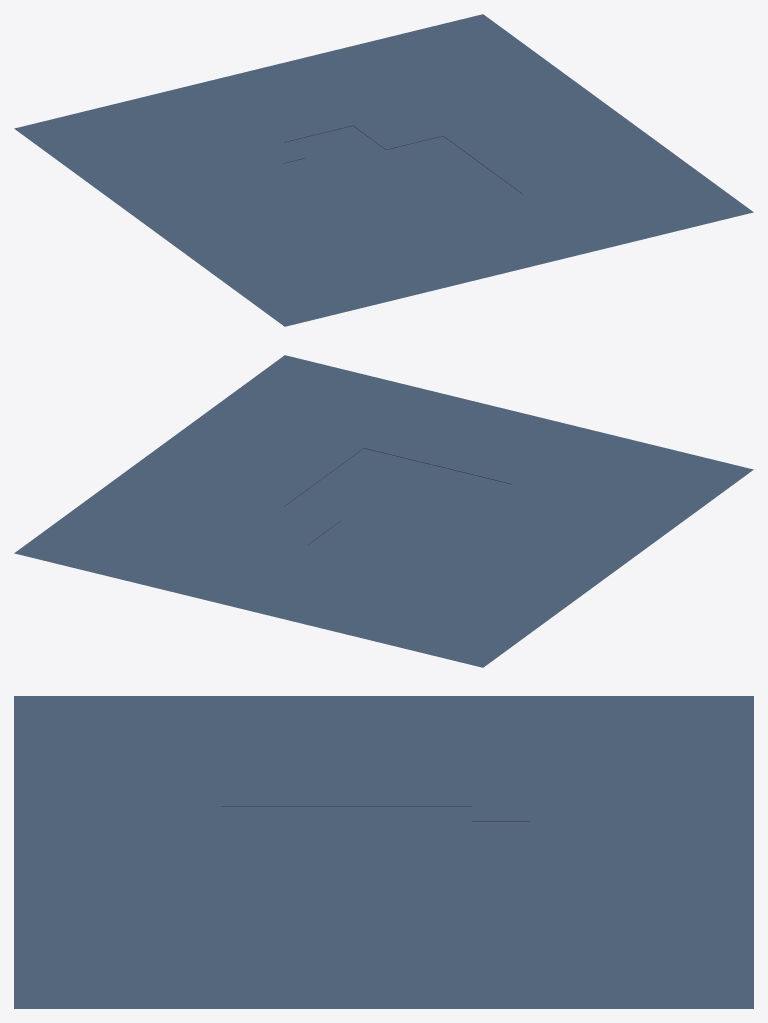
The model's file is INT_YourHomeCam.fbx.
The picture shows the model from 3 angles, top to bottom: view 1: azimuth 30°, elevation 25°; view 2: azimuth 150°, elevation 25°; view 3: azimuth 270°, elevation 25°; orthographic projection. The views are drawn at different scales.
Visible parts, largest first — view 1: Plane.136; view 2: Plane.136; view 3: Plane.136.
Boxes of the visible parts, x1=… form: Plane.136: x1=14, y1=14, x2=753, y2=326; Plane.136: x1=14, y1=355, x2=753, y2=667; Plane.136: x1=14, y1=696, x2=753, y2=1008.
Size of the model in its own units: 3981 by 536 by 3981.
